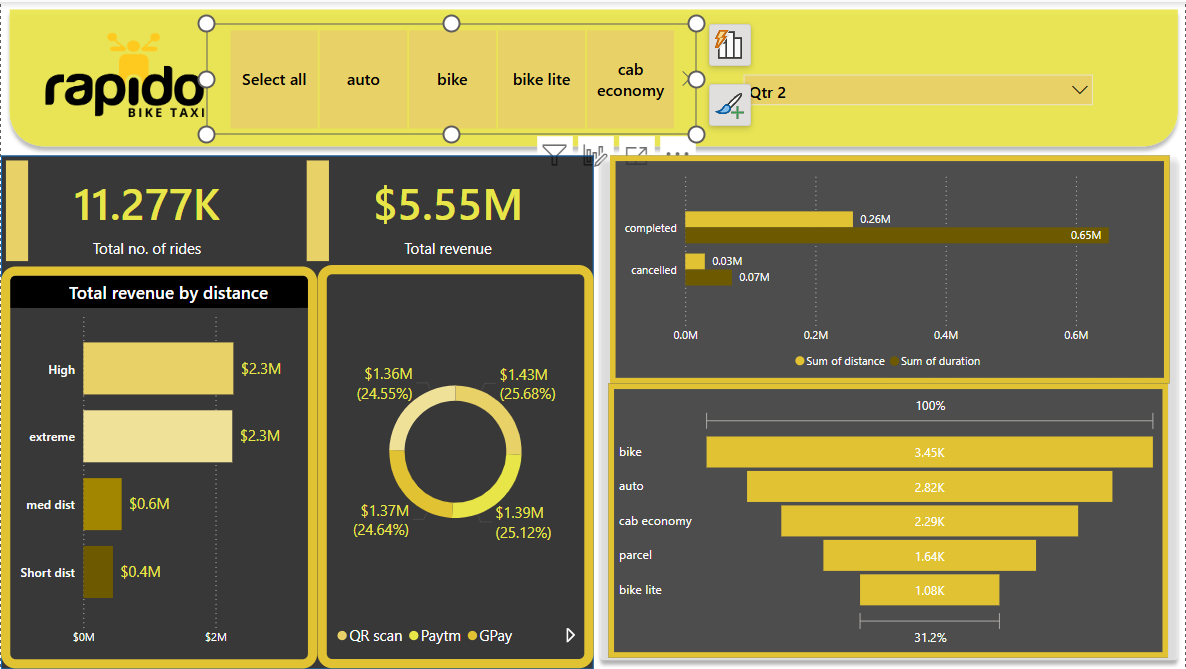

What the dashboard file says about the page in this screenshot:
{"tool":"powerbi","page":{"name":"Page 1","canvas":[1280,720],"ordinal":0},"visuals":[{"type":"shape","box":[0,0,1280,166.1],"z":0},{"type":"image","box":[0,8.1,267.3,149.9],"z":1000},{"type":"slicer","fields":{"Values":["rides_data.services"]},"box":[222,23.7,528.8,120.3],"z":2000},{"type":"shape","box":[0,166.1,640,554.9],"z":3000},{"type":"cardVisual","fields":{"Data":["rides_data.Total no. of rides","rides_data.Total revenue"]},"box":[0,166.1,640,119.5],"z":4000},{"type":"donutChart","fields":{"Category":["rides_data.payment_method"],"Y":["Sum(rides_data.total_fare)"]},"box":[341.7,285,297.9,435.6],"z":5000},{"type":"clusteredBarChart","title":"Total revenue by distance","fields":{"Category":["rides_data.Cat.distance"],"Y":["rides_data.Total revenue"]},"box":[0,286.6,341.7,434],"z":6000},{"type":"shape","box":[638,158.7,641.2,561.9],"z":7000},{"type":"slicer","fields":{"Values":["rides_data.date.Variation.Date Hierarchy.Quarter","rides_data.date.Variation.Date Hierarchy.Month","rides_data.date.Variation.Date Hierarchy.Day"]},"box":[791.9,68.9,397,54.7],"z":8000},{"type":"clusteredBarChart","fields":{"Y":["Sum(rides_data.distance)","Sum(rides_data.duration)"],"Category":["rides_data.ride_status"]},"box":[657.4,166.8,604,246.1],"z":9000},{"type":"funnel","fields":{"Category":["rides_data.services"],"Y":["rides_data.Total no. of rides"]},"box":[655.8,412.9,604,296.3],"z":9001}]}

Visuals, with their boxes in screenshot pixels (x1, y1, x2, y2):
shape: box(6, 3, 1176, 155)
image: box(6, 10, 250, 147)
slicer - rides_data.services: box(209, 25, 692, 135)
shape: box(6, 155, 591, 662)
cardVisual - rides_data.Total no. of rides x rides_data.Total revenue: box(6, 155, 591, 264)
donutChart - rides_data.payment_method x Sum(rides_data.total_fare): box(318, 264, 591, 662)
"Total revenue by distance" clusteredBarChart: box(6, 265, 318, 662)
shape: box(589, 148, 1175, 662)
slicer - rides_data.date.Variation.Date Hierarchy.Quarter x rides_data.date.Variation.Date Hierarchy.Month: box(730, 66, 1093, 116)
clusteredBarChart - Sum(rides_data.distance) x Sum(rides_data.duration): box(607, 156, 1159, 380)
funnel - rides_data.services x rides_data.Total no. of rides: box(605, 380, 1157, 651)
